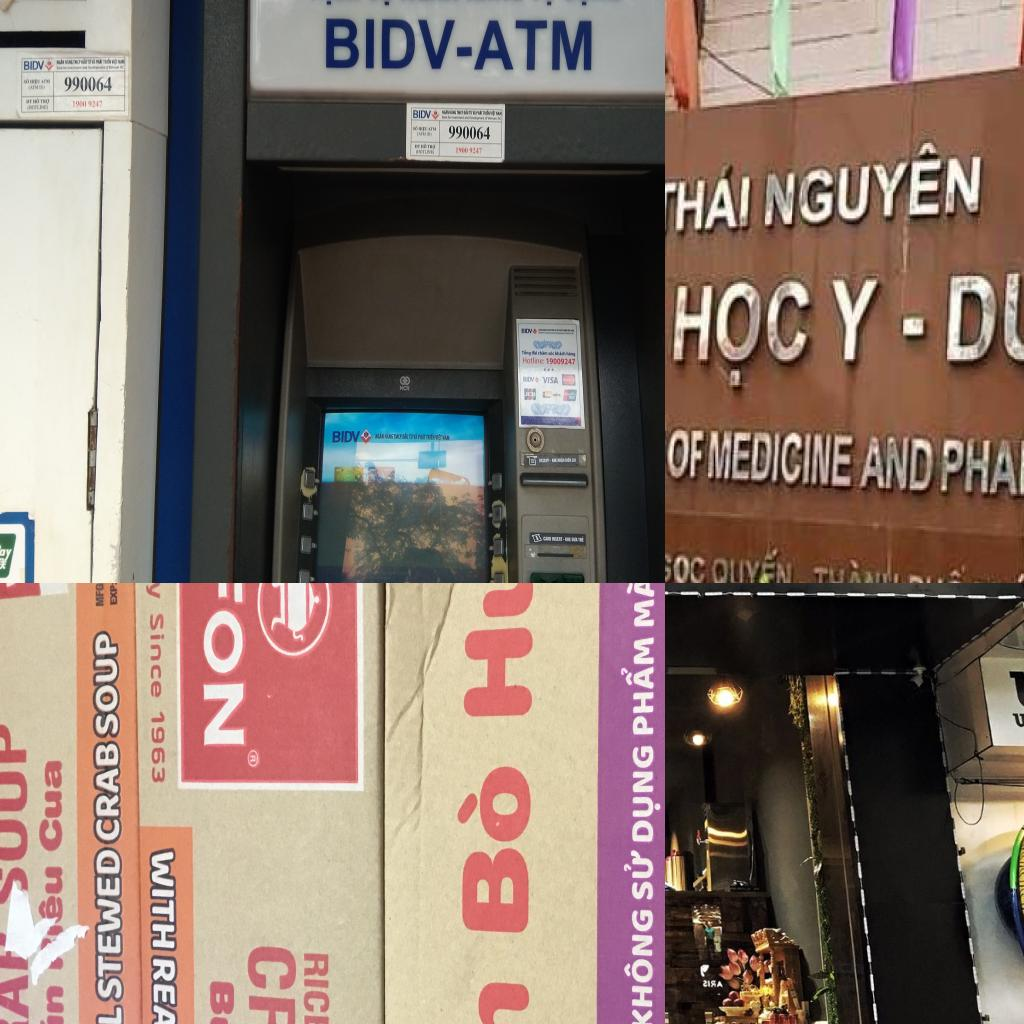text: (762, 131, 987, 232), (667, 274, 816, 393), (454, 763, 531, 933), (941, 246, 1024, 401), (447, 583, 535, 721), (706, 425, 858, 494), (324, 17, 474, 71), (201, 583, 245, 747), (665, 160, 755, 240), (937, 434, 1024, 508), (474, 20, 592, 71), (855, 431, 937, 498), (0, 721, 29, 906), (829, 274, 884, 367), (94, 846, 125, 1003), (246, 944, 297, 1024), (622, 907, 654, 1024), (620, 634, 656, 736), (709, 543, 796, 583), (91, 628, 121, 739), (92, 740, 123, 845), (0, 929, 32, 1024), (631, 744, 661, 843), (149, 846, 177, 952), (37, 758, 64, 853), (810, 555, 901, 583), (665, 426, 706, 486), (301, 952, 330, 1024), (150, 952, 178, 1024), (38, 864, 64, 938), (623, 846, 654, 901), (665, 545, 708, 583), (906, 559, 970, 583), (149, 613, 166, 699), (625, 583, 655, 628), (209, 979, 238, 1024), (150, 709, 166, 784), (38, 984, 65, 1024), (64, 76, 112, 92), (448, 125, 491, 141), (95, 1002, 126, 1024), (332, 430, 360, 444), (1006, 708, 1024, 728), (72, 100, 103, 108), (546, 358, 576, 366), (95, 583, 105, 607), (108, 583, 117, 607), (24, 60, 45, 70), (0, 543, 14, 558), (456, 146, 482, 154), (522, 356, 545, 365), (413, 110, 431, 120), (541, 376, 559, 385), (27, 105, 49, 111), (415, 149, 435, 155), (88, 65, 105, 71), (522, 376, 534, 383), (30, 78, 40, 86), (375, 432, 385, 440), (426, 432, 435, 440), (521, 328, 533, 334), (524, 392, 536, 398), (551, 536, 563, 542), (249, 754, 257, 763), (566, 351, 576, 358), (28, 85, 39, 91), (539, 458, 550, 464), (469, 116, 485, 120), (442, 434, 450, 442), (435, 433, 442, 442), (67, 66, 82, 70), (108, 65, 120, 70), (40, 98, 50, 104), (418, 126, 428, 132), (384, 433, 394, 439), (521, 350, 531, 356), (538, 350, 548, 356), (542, 536, 552, 542), (103, 58, 111, 65), (111, 58, 118, 66), (483, 108, 490, 116), (418, 433, 426, 440), (555, 351, 566, 356), (417, 131, 426, 137), (427, 144, 436, 150), (393, 433, 402, 439), (40, 79, 50, 84), (488, 116, 498, 121), (56, 58, 64, 64), (65, 58, 73, 64), (73, 59, 81, 65), (32, 98, 40, 104), (449, 109, 457, 115), (402, 432, 408, 440), (557, 458, 565, 464), (564, 457, 572, 463), (578, 535, 584, 543), (24, 78, 30, 85), (442, 109, 449, 115), (476, 110, 483, 116), (490, 110, 496, 117), (420, 143, 427, 149), (408, 433, 414, 440), (531, 350, 538, 356), (571, 536, 578, 542), (95, 59, 103, 64), (456, 110, 464, 115), (464, 108, 469, 116), (457, 115, 465, 120), (428, 127, 436, 132), (81, 58, 87, 64), (119, 64, 125, 70), (39, 84, 45, 90), (496, 110, 502, 116), (442, 114, 448, 120), (552, 393, 561, 397), (551, 457, 557, 463), (91, 58, 96, 65), (118, 59, 125, 64), (548, 351, 555, 356), (56, 66, 64, 70), (26, 99, 32, 104), (413, 125, 418, 131), (426, 132, 432, 137), (565, 537, 571, 542), (414, 433, 418, 440), (87, 59, 92, 64), (82, 65, 87, 70), (572, 457, 576, 463), (63, 66, 68, 70), (105, 65, 109, 70), (469, 110, 473, 115), (452, 115, 456, 120), (464, 116, 469, 120), (497, 116, 502, 120), (415, 144, 420, 148), (473, 110, 476, 116), (448, 115, 452, 119), (484, 116, 488, 120)
